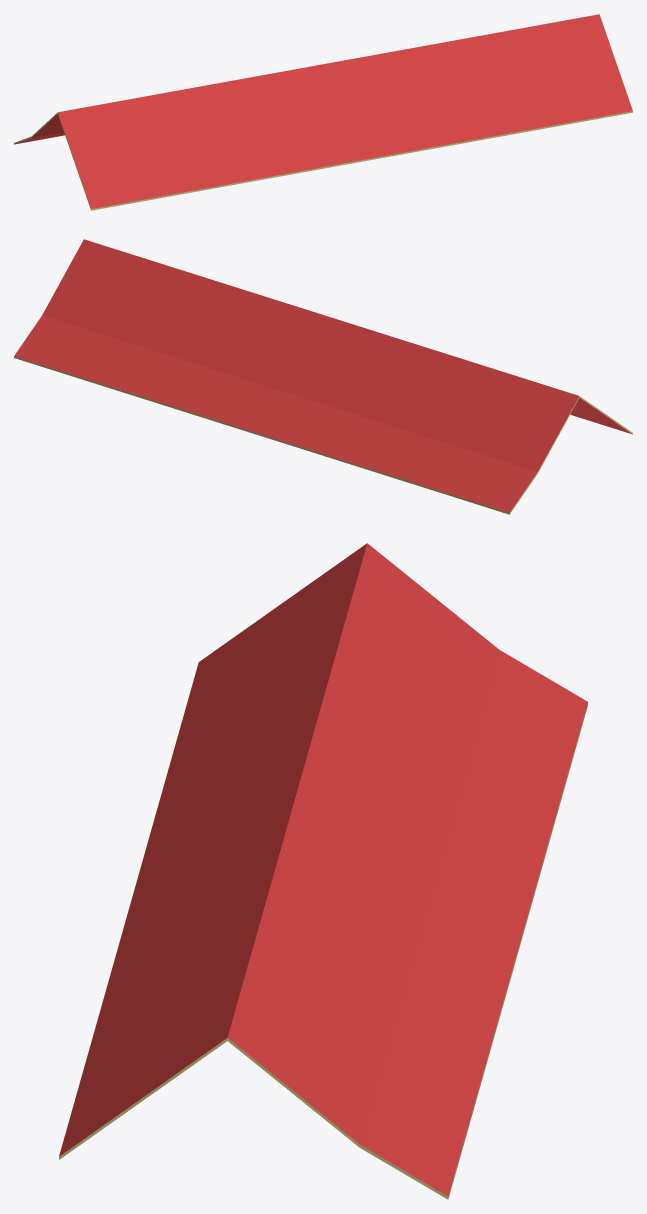
The picture shows the model from 3 angles, top to bottom: view 1: azimuth 30°, elevation 25°; view 2: azimuth 150°, elevation 25°; view 3: azimuth 270°, elevation 25°; orthographic projection. The views are drawn at different scales.
Size of the model in its own units: 33.37 by 14.51 by 4.57.
